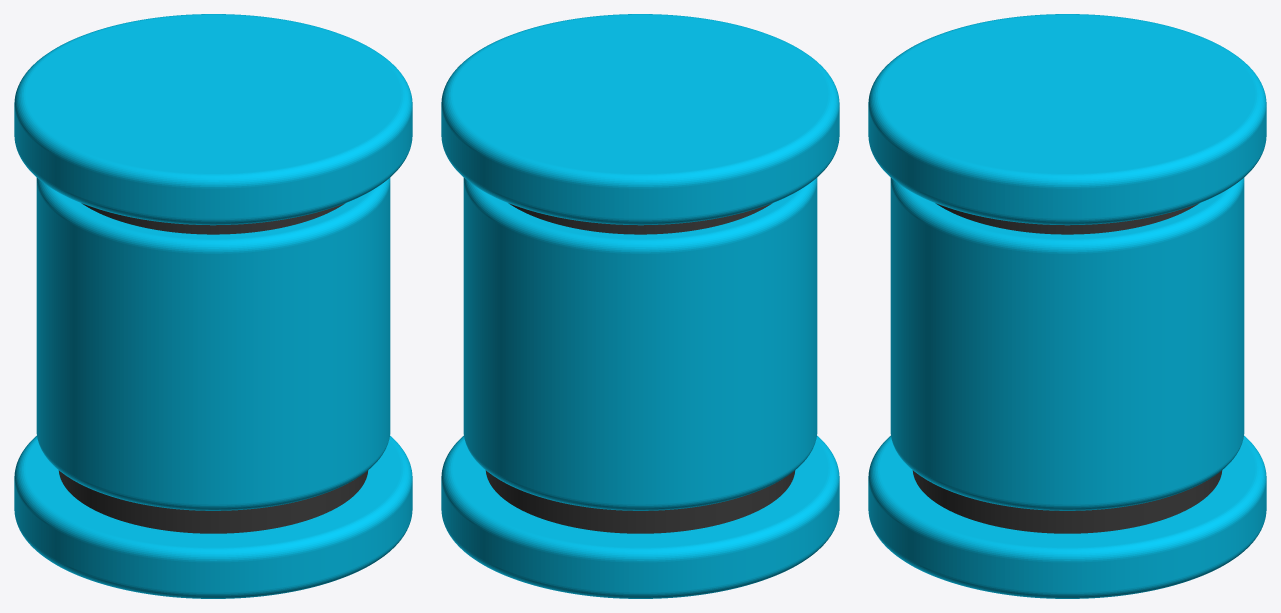
Rendered from EnergyCan.fbx.
3 renders of one model, left to right at view 1: azimuth 30°, elevation 25°; view 2: azimuth 150°, elevation 25°; view 3: azimuth 270°, elevation 25°, orthographic.
Visible parts, largest first — view 1: 円柱.001, 円柱.002, 円柱.003, 円柱; view 2: 円柱.001, 円柱.002, 円柱.003, 円柱; view 3: 円柱.001, 円柱.002, 円柱.003, 円柱.
Part boxes in pixels (x1,y1,x2,y2): 円柱.001: [36, 177, 390, 510]; 円柱.002: [14, 14, 412, 225]; 円柱.003: [14, 435, 412, 598]; 円柱: [58, 203, 368, 533]; 円柱.001: [463, 177, 817, 510]; 円柱.002: [441, 14, 839, 225]; 円柱.003: [441, 435, 839, 598]; 円柱: [485, 203, 795, 533]; 円柱.001: [890, 177, 1244, 510]; 円柱.002: [868, 14, 1266, 225]; 円柱.003: [868, 435, 1266, 598]; 円柱: [912, 203, 1222, 533].
Size of the model in its own units: 108 by 127 by 108.
